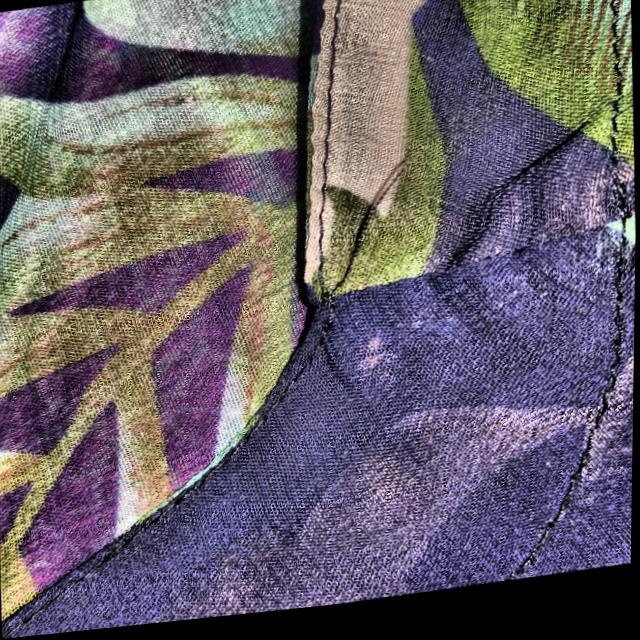Stitch: (269, 115, 454, 365)
